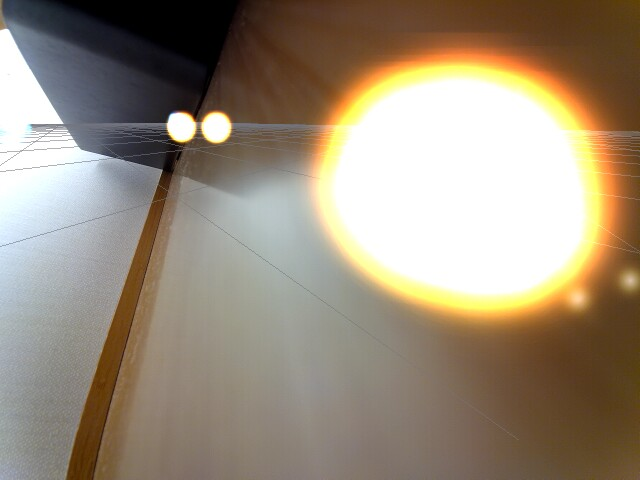firebig: (315, 28, 608, 315)
